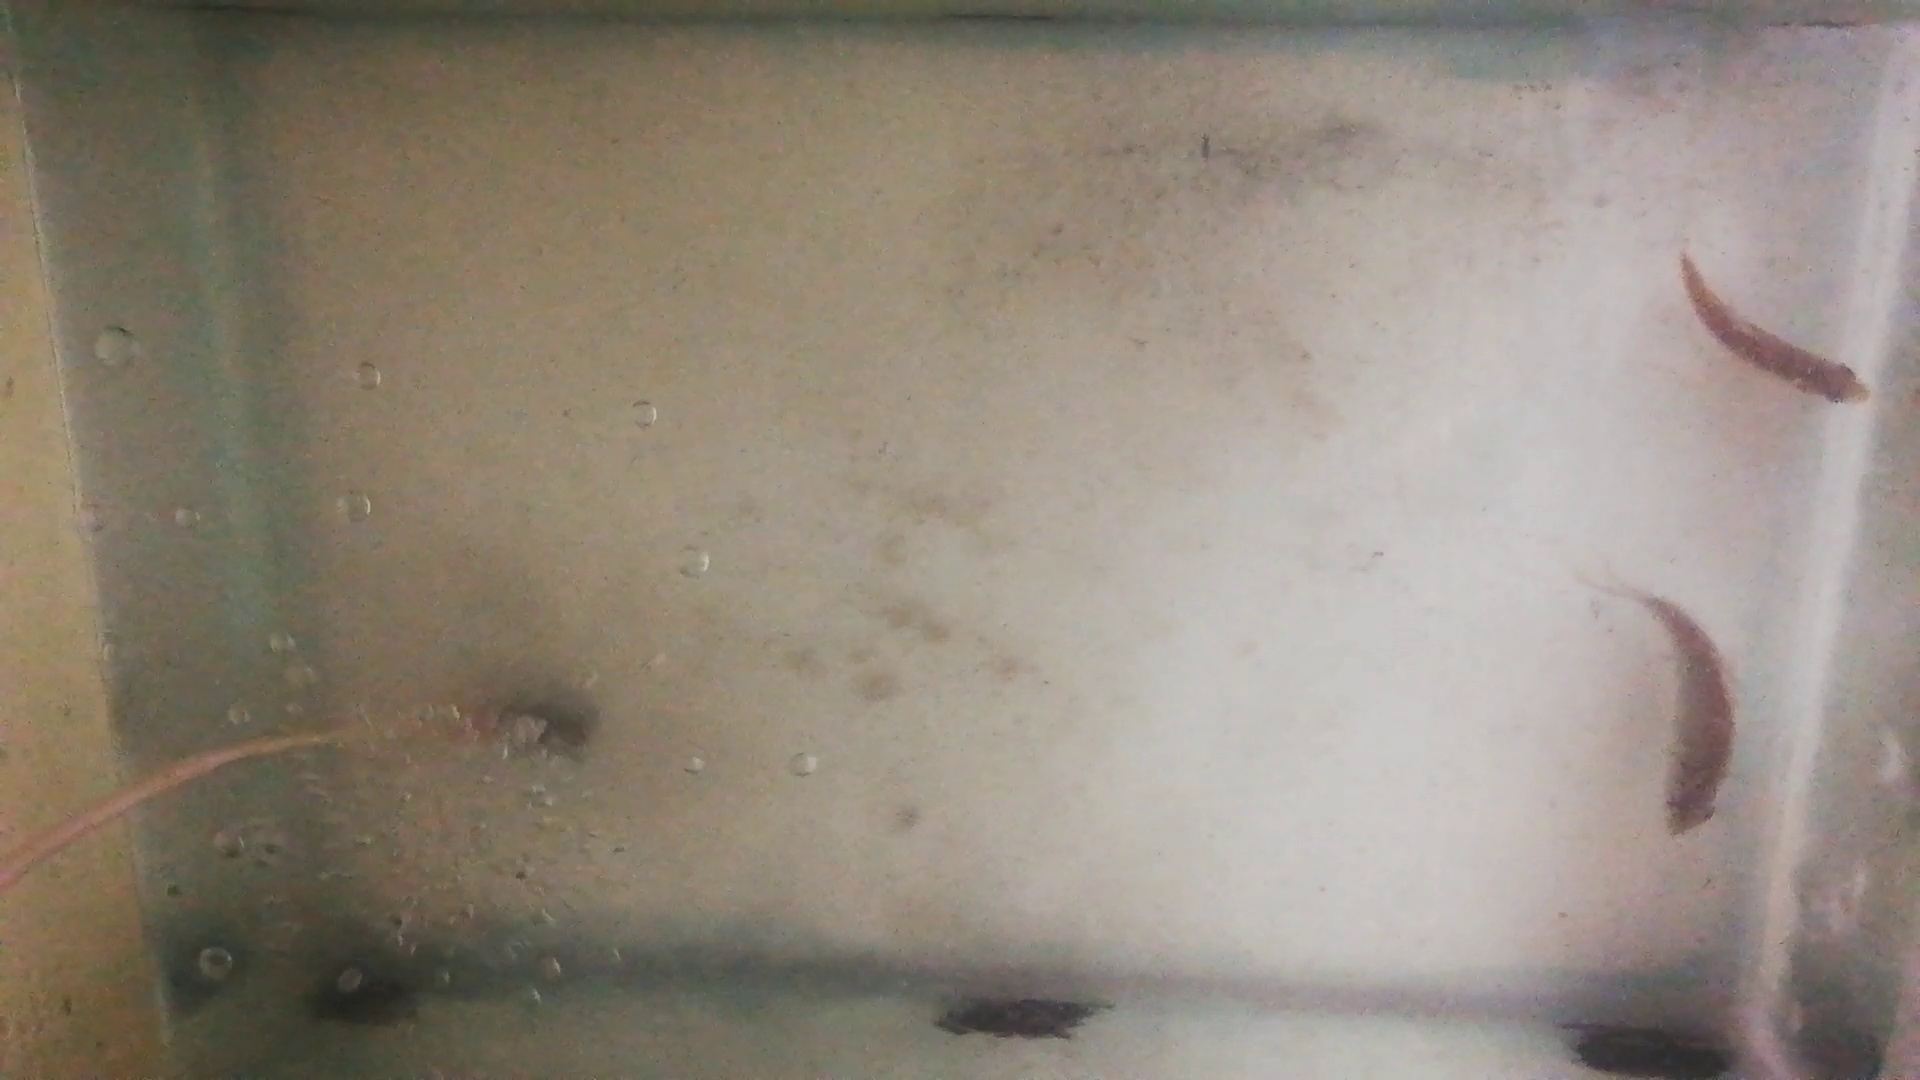fish: (1679, 248, 1870, 405), (1639, 587, 1741, 840)
